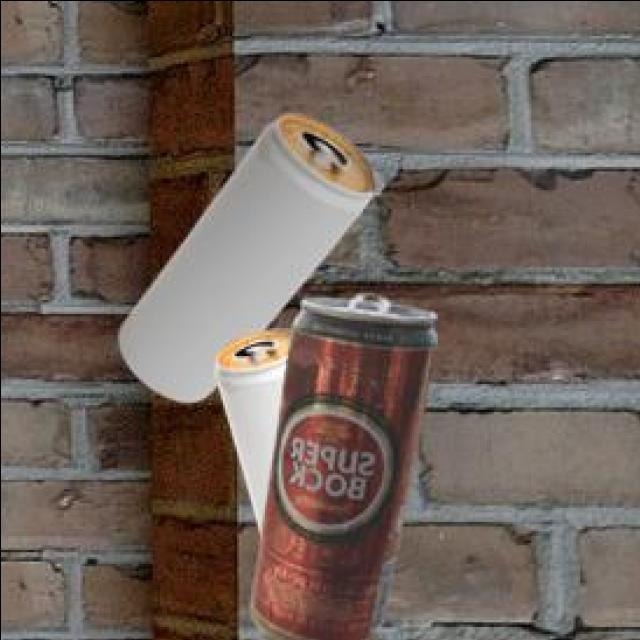logam: (116, 116, 373, 405), (246, 298, 431, 640), (211, 333, 287, 538)
